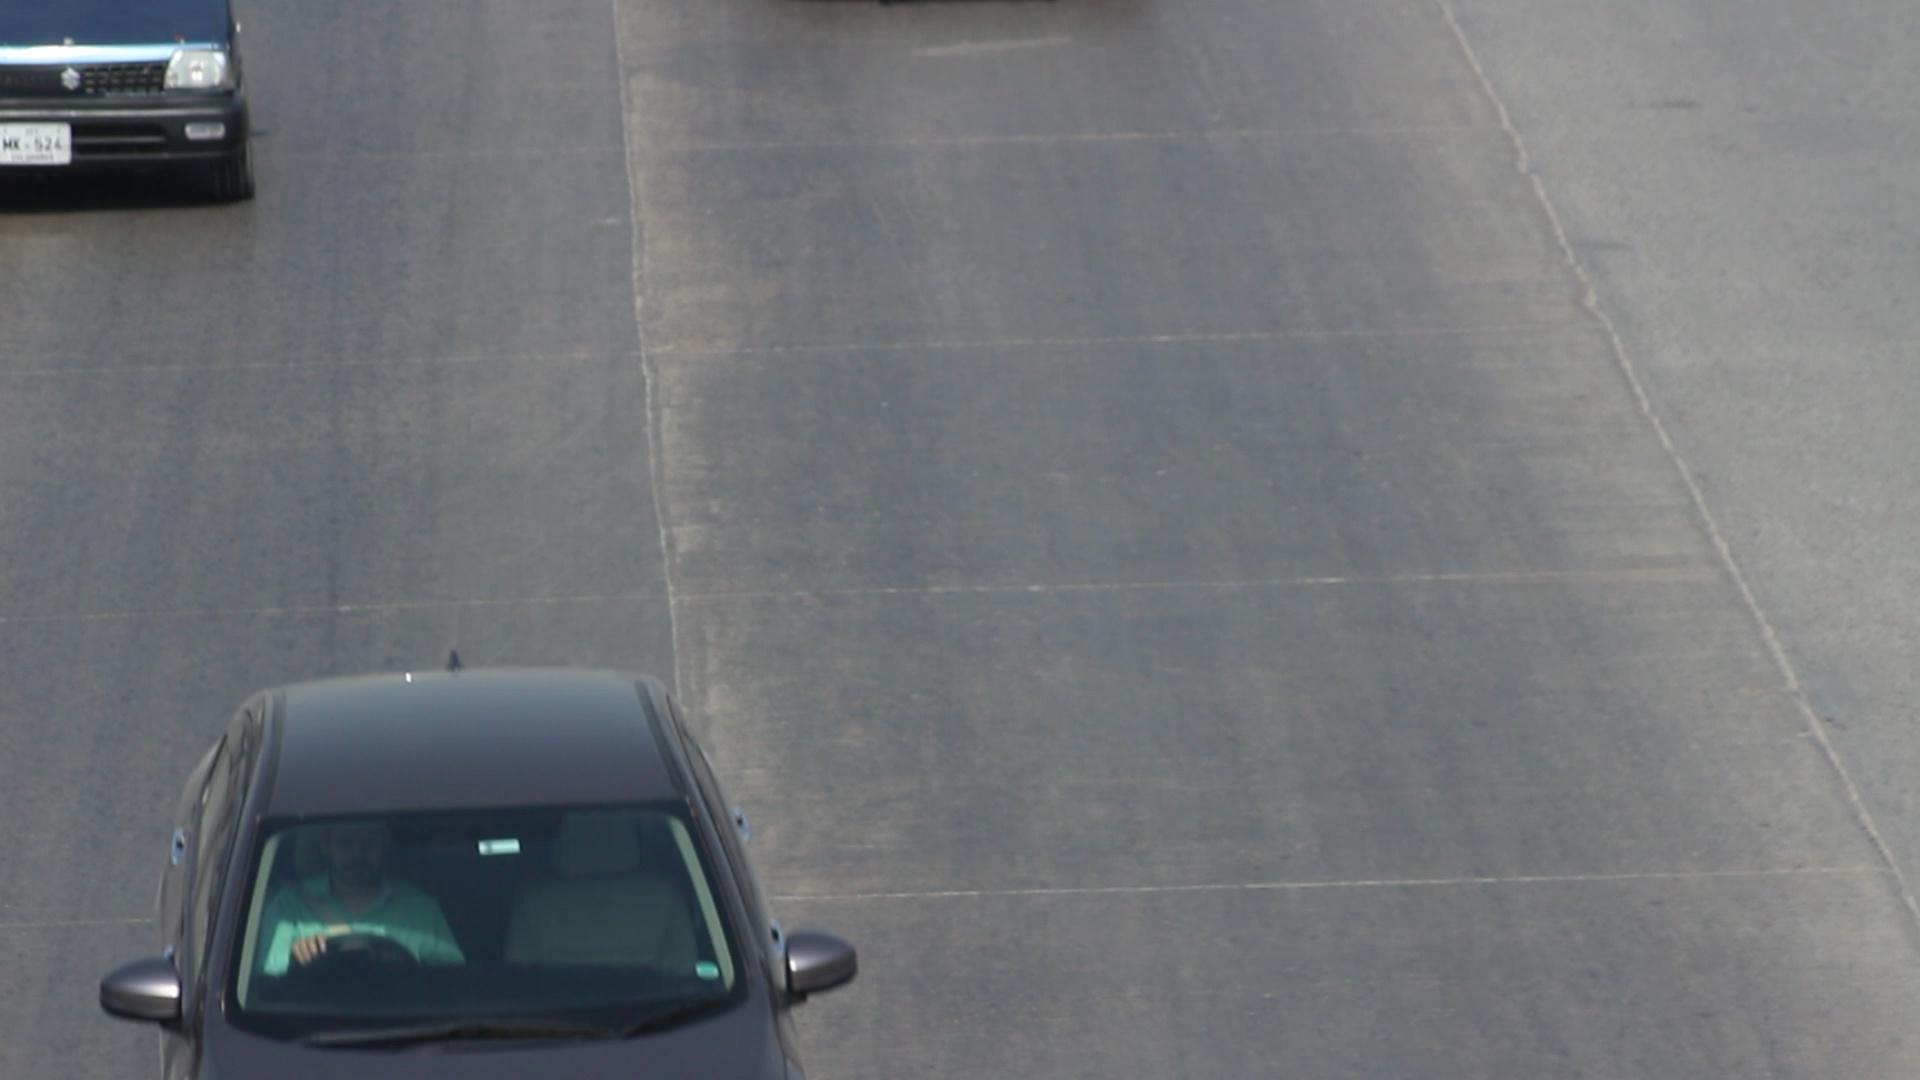windshield: (207, 783, 781, 1043)
